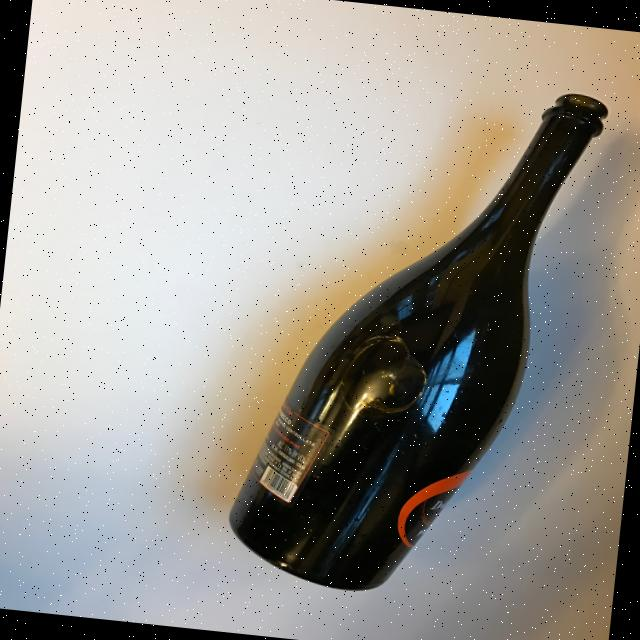glass: (220, 60, 610, 612)
